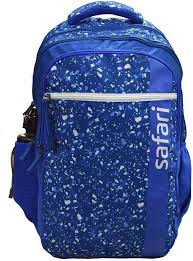backpack: (8, 0, 191, 259)
